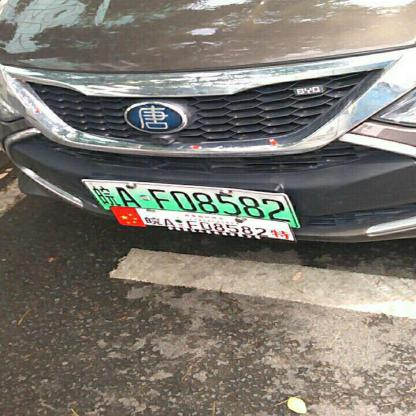lp: (84, 181, 297, 226)
